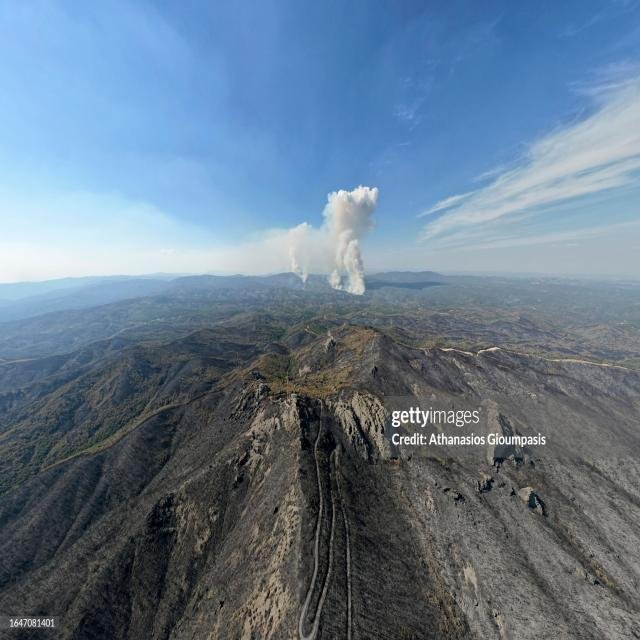Smoke: (324, 186, 377, 305)
